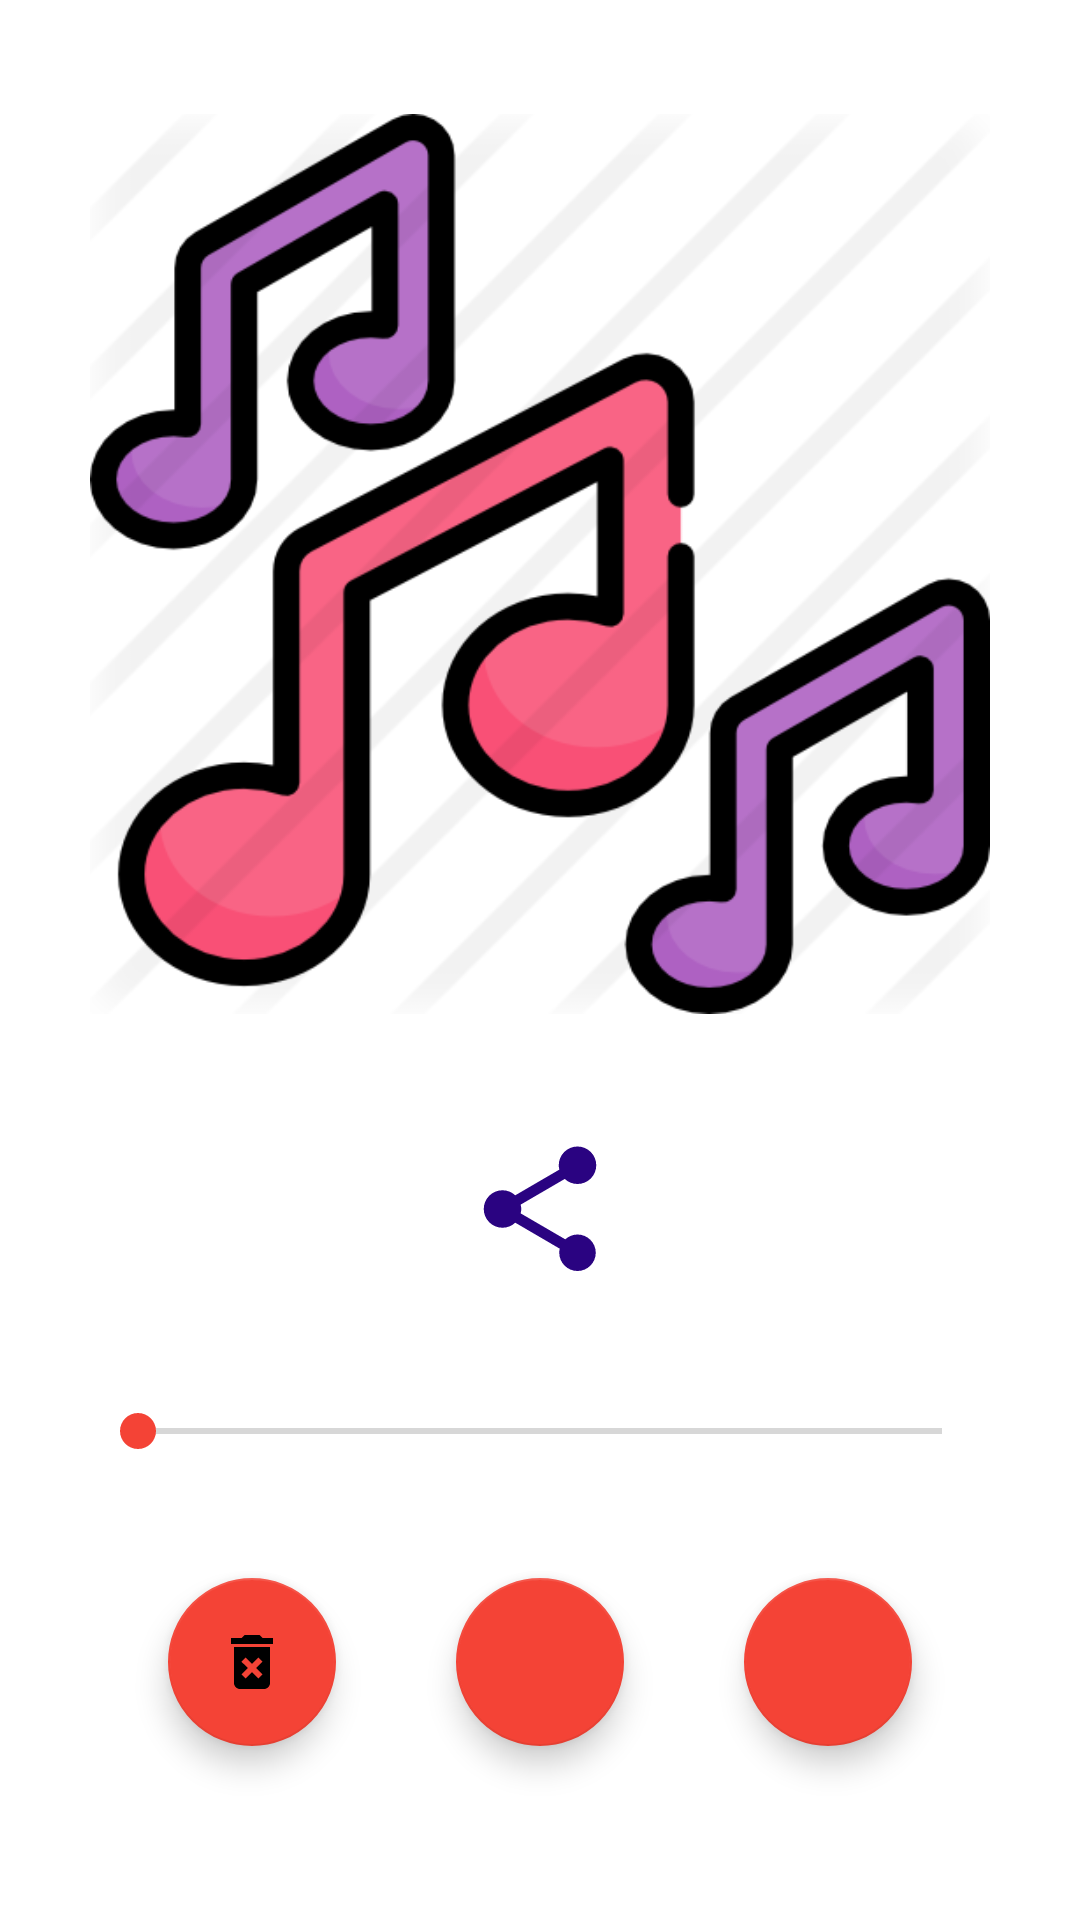

Named icons in this screenshot (1080 × 1920) and their centers, point (x, y):
delete: point (252, 1662)
share: point (540, 1208)
